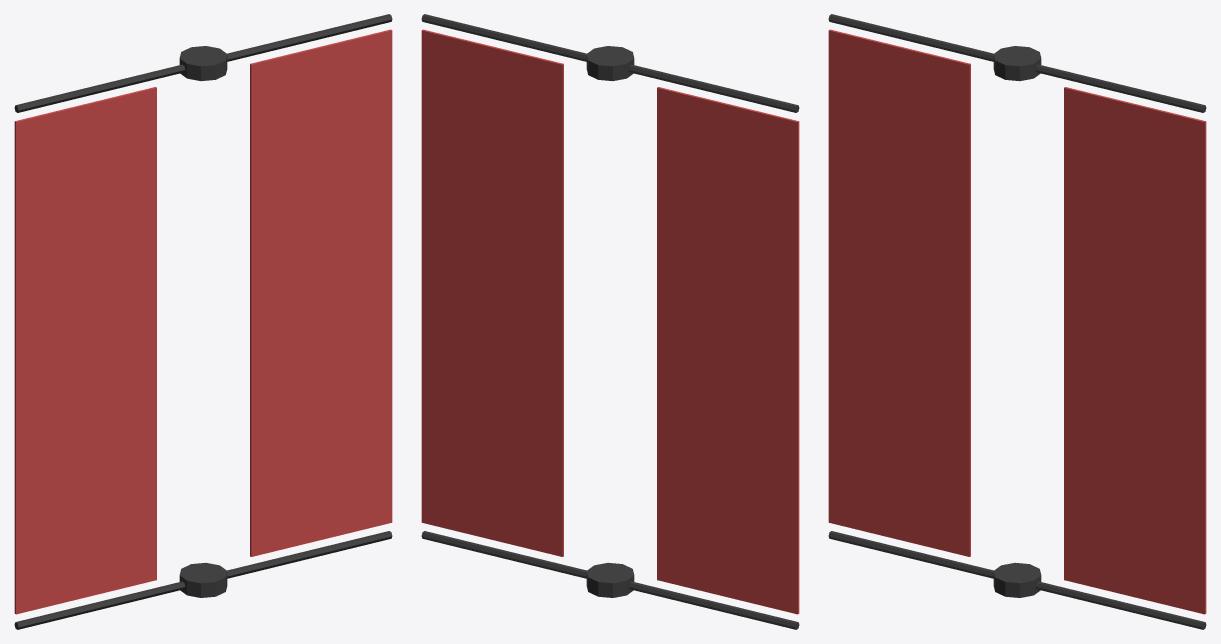
The model's file is banner_pole_bracket.glb.
3 views of the same model, side by side, from view 1: azimuth 30°, elevation 25°; view 2: azimuth 150°, elevation 25°; view 3: azimuth 330°, elevation 25° (orthographic).
Parts seen in each view (by area): view 1: banner_pole_bracket; view 2: banner_pole_bracket; view 3: banner_pole_bracket.
Part boxes in pixels (x1,y1,x2,y2): banner_pole_bracket: [14, 14, 392, 629]; banner_pole_bracket: [421, 14, 799, 629]; banner_pole_bracket: [828, 14, 1206, 629].
Bounding box in the file's own units: 1.6 × 2.16 × 0.18.
